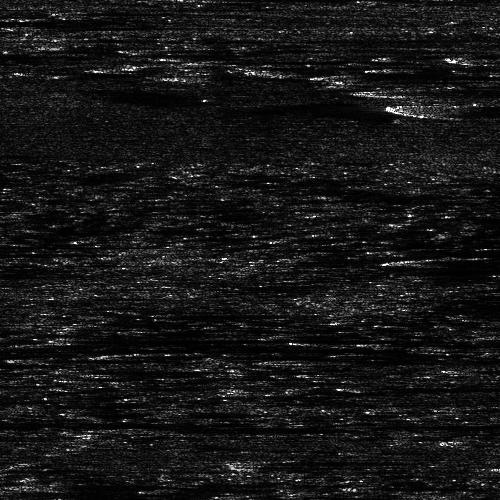object: (383, 99, 488, 116), (0, 471, 65, 498), (243, 353, 368, 364), (215, 453, 298, 468), (30, 330, 93, 343), (307, 67, 380, 78), (334, 86, 417, 95), (383, 255, 466, 264), (103, 0, 280, 2), (323, 383, 386, 388), (420, 367, 473, 372), (95, 425, 136, 430), (3, 356, 56, 359), (333, 484, 364, 489), (486, 463, 500, 470)
shadow: (19, 471, 254, 498), (62, 330, 407, 343), (306, 353, 500, 364), (0, 419, 227, 428), (257, 453, 390, 468), (0, 13, 125, 28), (344, 67, 500, 78), (376, 86, 500, 95), (436, 99, 500, 116), (116, 425, 293, 430), (355, 383, 500, 388), (425, 255, 500, 264), (349, 484, 483, 489), (191, 0, 500, 2), (30, 356, 173, 359), (446, 367, 500, 372), (0, 151, 36, 156), (0, 490, 19, 495)
